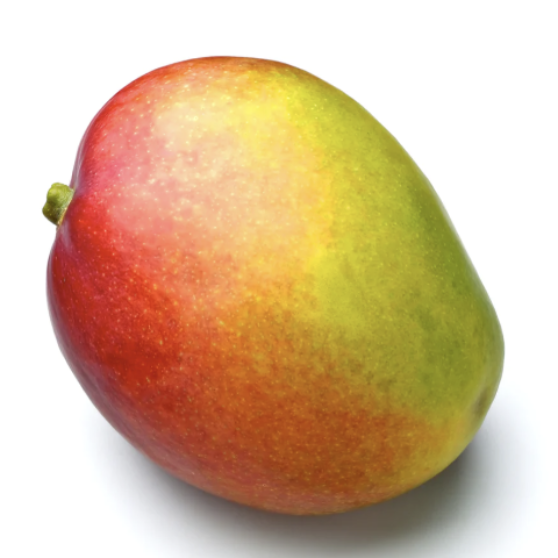mango: (2, 20, 546, 536)
